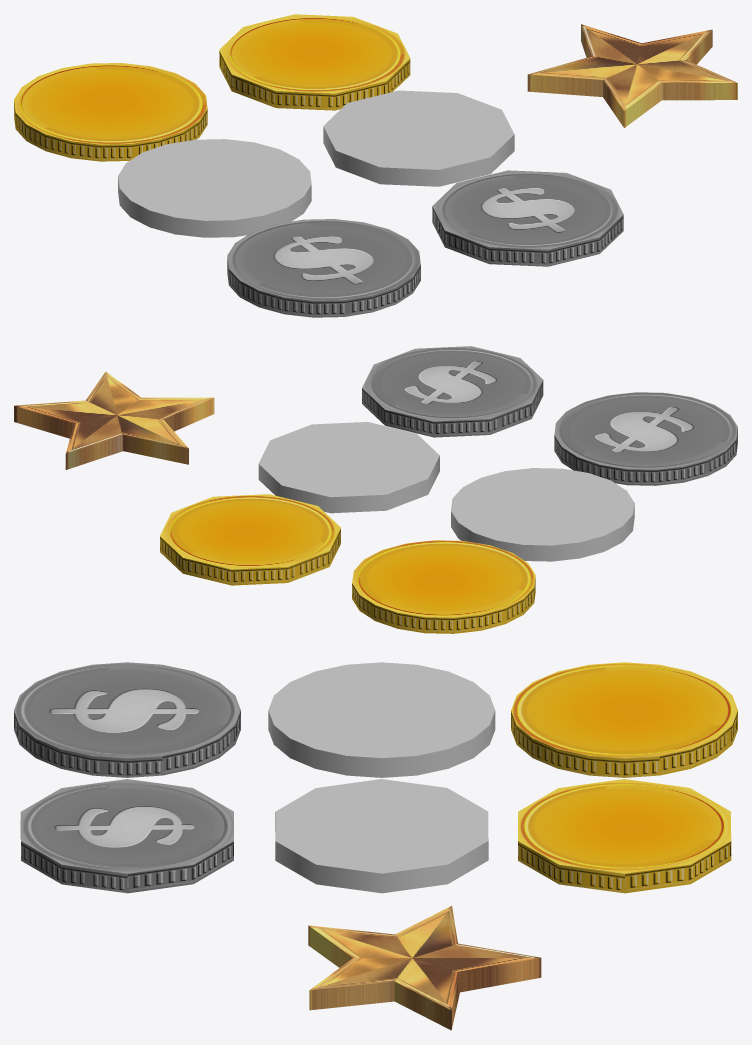
File: Coins.fbx
3 renders of one model, top to bottom at view 1: azimuth 30°, elevation 25°; view 2: azimuth 150°, elevation 25°; view 3: azimuth 270°, elevation 25°, orthographic. The views are drawn at different scales.
Visible parts, largest first — view 1: Coin2_1, Coin1_1, Coin3_1, Coin2_2, Coin1_2, Coin3_2, Star1; view 2: Coin3_1, Coin2_1, Coin1_1, Coin2_2, Coin3_2, Coin1_2, Star1; view 3: Coin1_1, Coin2_1, Coin3_1, Coin1_2, Coin3_2, Coin2_2, Star1.
Part boxes in pixels (x1,y1,x2,y2): Coin2_1: [227, 219, 420, 317]; Coin1_1: [118, 139, 311, 237]; Coin3_1: [14, 63, 207, 161]; Coin2_2: [432, 170, 623, 266]; Coin1_2: [323, 90, 514, 186]; Coin3_2: [219, 14, 410, 110]; Star1: [527, 24, 737, 127]; Coin3_1: [352, 540, 535, 633]; Coin2_1: [554, 392, 737, 485]; Coin1_1: [451, 468, 634, 561]; Coin2_2: [362, 346, 543, 437]; Coin3_2: [160, 494, 340, 585]; Coin1_2: [258, 422, 439, 513]; Star1: [14, 371, 214, 469]; Coin1_1: [268, 662, 495, 777]; Coin2_1: [14, 662, 240, 777]; Coin3_1: [511, 662, 737, 777]; Coin1_2: [275, 779, 488, 893]; Coin3_2: [518, 779, 731, 893]; Coin2_2: [20, 779, 233, 893]; Star1: [308, 906, 541, 1030].
Size of the model in its own units: 103 by 2.79 by 90.3.
